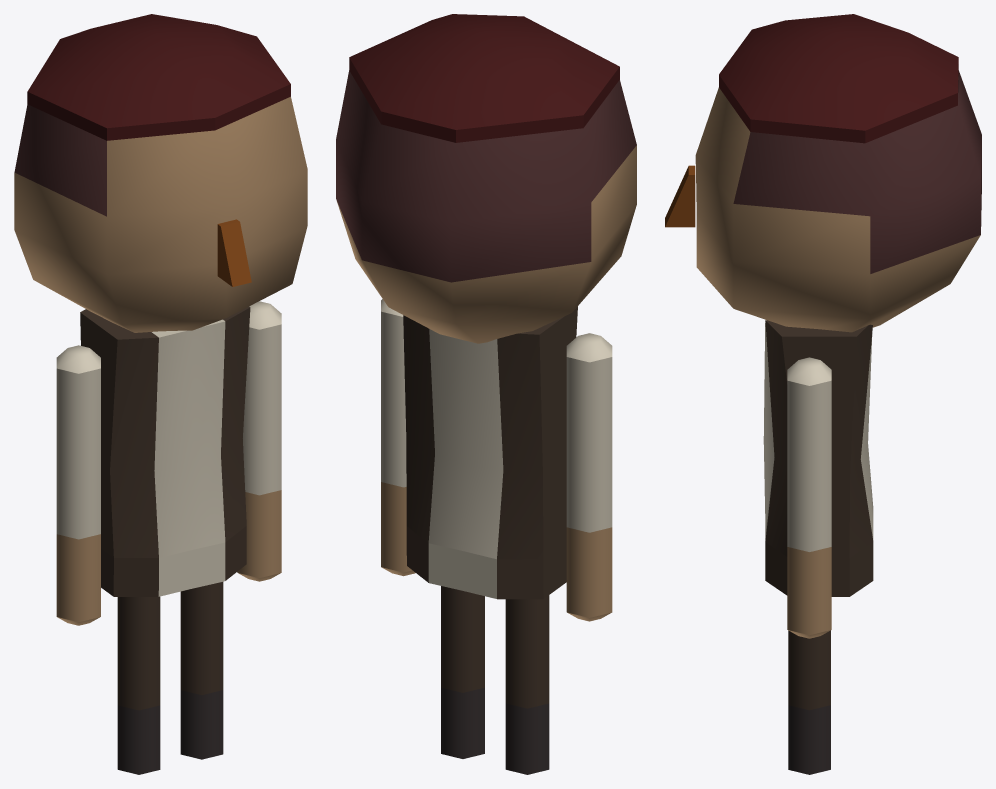
Rendered from Villager_4.FBX.
The picture shows the model from 3 angles, left to right: view 1: azimuth 30°, elevation 25°; view 2: azimuth 150°, elevation 25°; view 3: azimuth 270°, elevation 25°; orthographic projection. The views are drawn at different scales.
Parts seen in each view (by area): view 1: Box048; view 2: Box048; view 3: Box048.
Part boxes in pixels (x1,y1,x2,y2): Box048: [14, 14, 307, 774]; Box048: [336, 14, 636, 774]; Box048: [665, 14, 981, 774].
Bounding box in the file's own units: 29.27 × 79.99 × 32.13.
